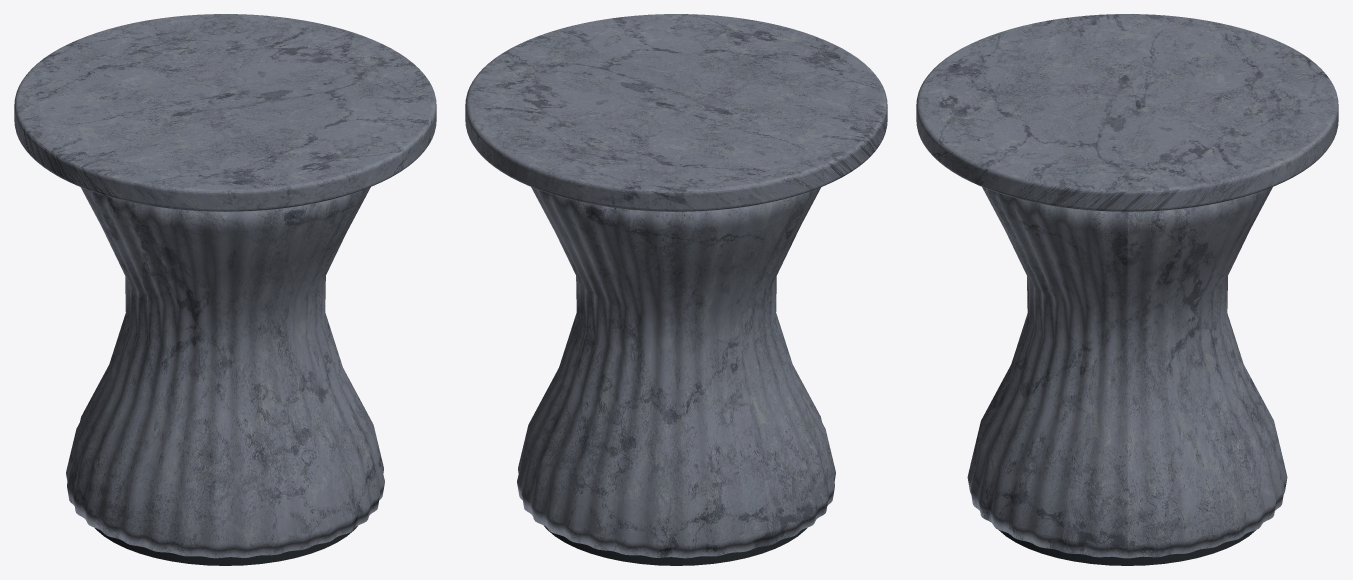
File: premium-stone-bedside.glb
The picture shows the model from 3 angles, left to right: view 1: azimuth 30°, elevation 25°; view 2: azimuth 150°, elevation 25°; view 3: azimuth 270°, elevation 25°; orthographic projection.
Parts seen in each view (by area): view 1: round_marble_tabletop, top_under_edge; view 2: round_marble_tabletop, top_under_edge; view 3: round_marble_tabletop, top_under_edge.
Part boxes in pixels (left/top/right/bottom): round_marble_tabletop: left=14, top=14, right=436, bottom=558; top_under_edge: left=94, top=526, right=357, bottom=565; round_marble_tabletop: left=465, top=14, right=887, bottom=558; top_under_edge: left=544, top=526, right=807, bottom=565; round_marble_tabletop: left=916, top=14, right=1338, bottom=558; top_under_edge: left=999, top=530, right=1255, bottom=565.
Size of the model in its own units: 0.52 by 0.55 by 0.52.
2 materials, 1 textured.
